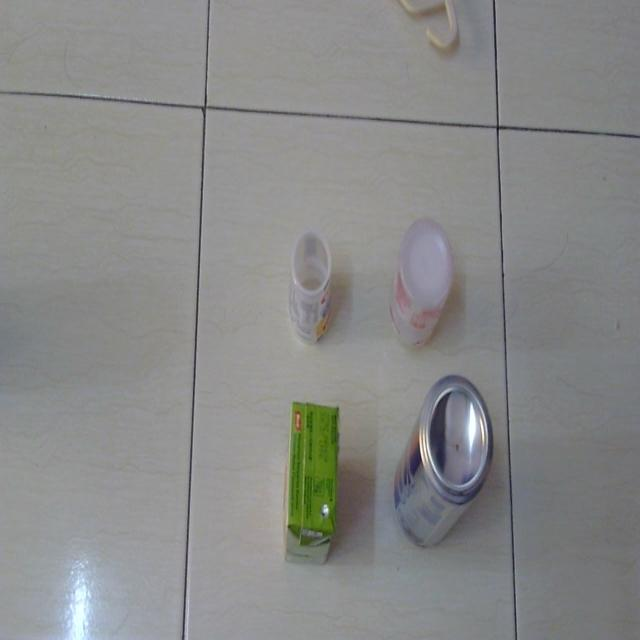metal_standrotation: (392, 369, 494, 561)
plastic_standrotation: (282, 393, 344, 567), (385, 210, 452, 354), (285, 227, 337, 350)
